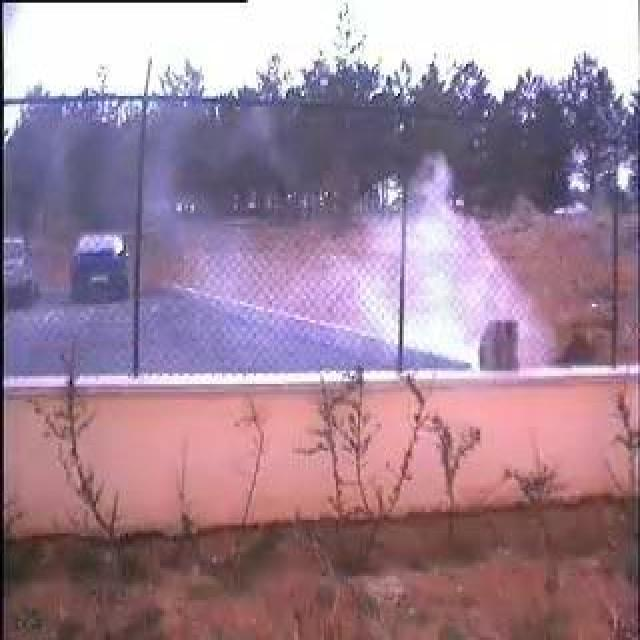Smoke: (342, 148, 564, 367)
